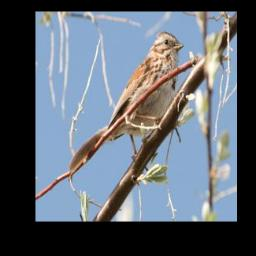Sparrow: (68, 31, 184, 175)
